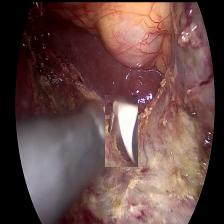Hook: (104, 94, 137, 166)
